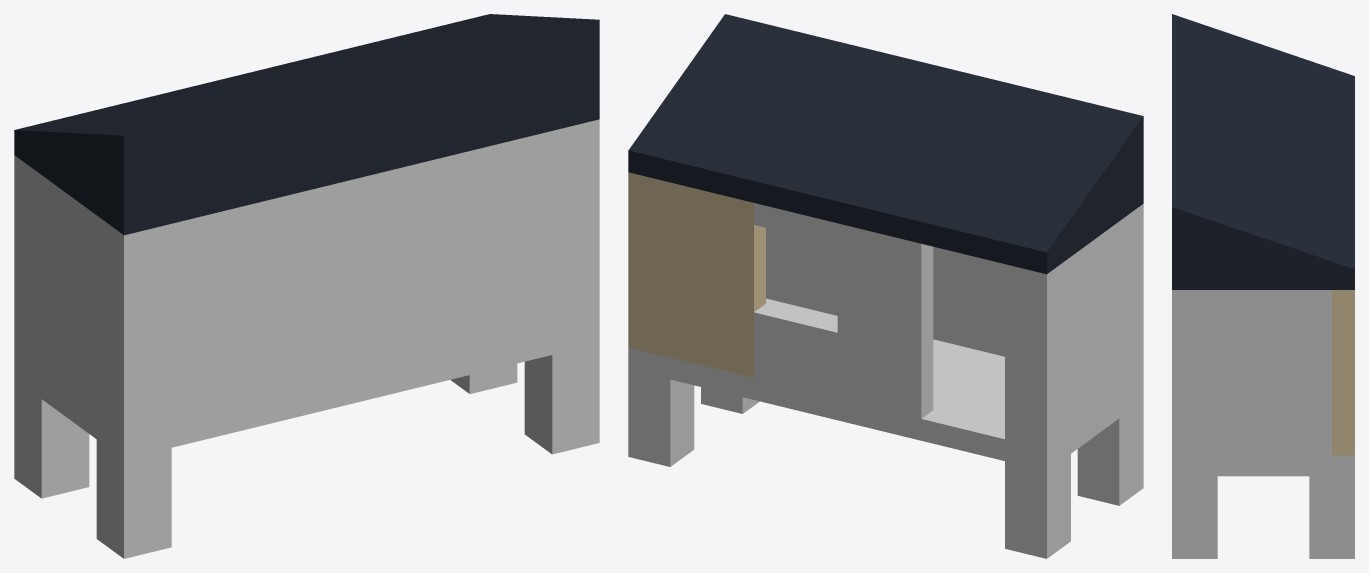
File: box_house1.dae
The picture shows the model from 3 angles, left to right: view 1: azimuth 30°, elevation 25°; view 2: azimuth 150°, elevation 25°; view 3: azimuth 270°, elevation 25°; orthographic projection. The views are drawn at different scales.
Parts seen in each view (by area): view 1: Cube_008, Cube_005, Cube_009, Cube_004, Cube_001, Cube, Cube_002, Cube_010, Cube_003; view 2: Cube_005, Cube_011, Cube_004, Cube_007, Cube_008, Cube_009, Cube_010, Cube_012, Cube_002, Cube_003, Cube_001, Cube_013 (+1 smaller); view 3: Cube_005, Cube_006, Cube_004, Cube_011, Cube_008, Cube_003, Cube.
Boxes of the visible parts, bbox=[...] form: Cube_008: bbox=[110, 119, 599, 434]; Cube_005: bbox=[14, 14, 599, 235]; Cube_009: bbox=[28, 165, 110, 423]; Cube_004: bbox=[14, 318, 599, 459]; Cube_001: bbox=[96, 439, 171, 558]; Cube: bbox=[524, 343, 599, 454]; Cube_002: bbox=[14, 379, 89, 498]; Cube_010: bbox=[14, 155, 27, 363]; Cube_003: bbox=[450, 363, 517, 393]; Cube_005: bbox=[628, 14, 1143, 274]; Cube_011: bbox=[628, 172, 765, 377]; Cube_004: bbox=[628, 298, 1143, 471]; Cube_007: bbox=[837, 223, 933, 418]; Cube_008: bbox=[766, 204, 1143, 387]; Cube_009: bbox=[1059, 213, 1131, 440]; Cube_010: bbox=[1005, 264, 1058, 449]; Cube_012: bbox=[754, 303, 837, 398]; Cube_002: bbox=[1005, 454, 1070, 558]; Cube_003: bbox=[628, 369, 694, 466]; Cube_001: bbox=[1077, 401, 1143, 505]; Cube_013: bbox=[754, 203, 837, 244]; Cube_005: bbox=[1172, 14, 1354, 289]; Cube_006: bbox=[1195, 290, 1331, 455]; Cube_004: bbox=[1172, 455, 1354, 476]; Cube_011: bbox=[1332, 290, 1354, 455]; Cube_008: bbox=[1172, 290, 1194, 455]; Cube_003: bbox=[1309, 476, 1354, 558]; Cube: bbox=[1172, 476, 1217, 558].
Bounding box in the file's own units: 10 × 4 × 8.5.
